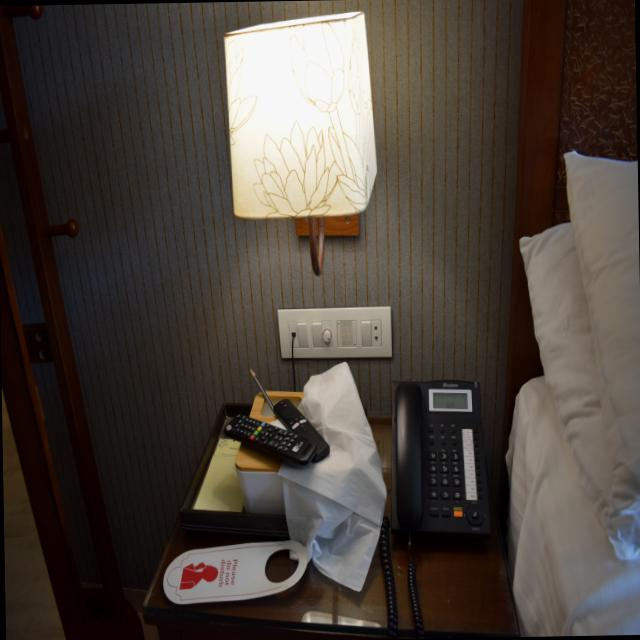mess: (190, 338, 415, 582), (513, 211, 640, 636)
